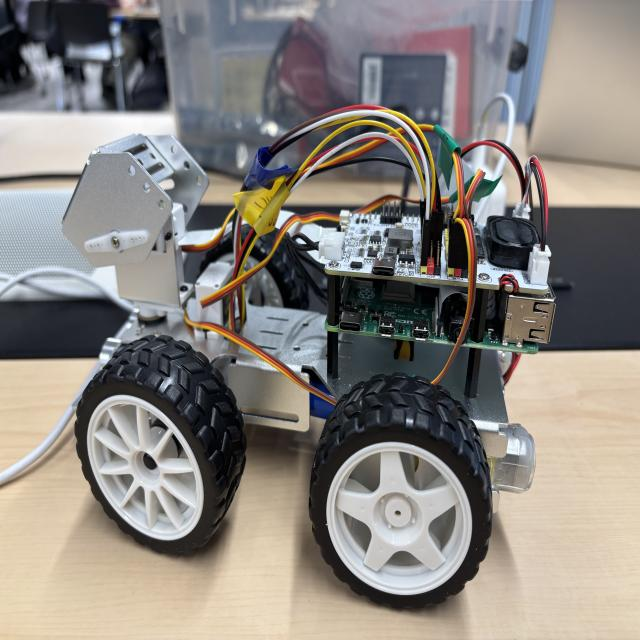vehicle: (63, 106, 559, 612)
